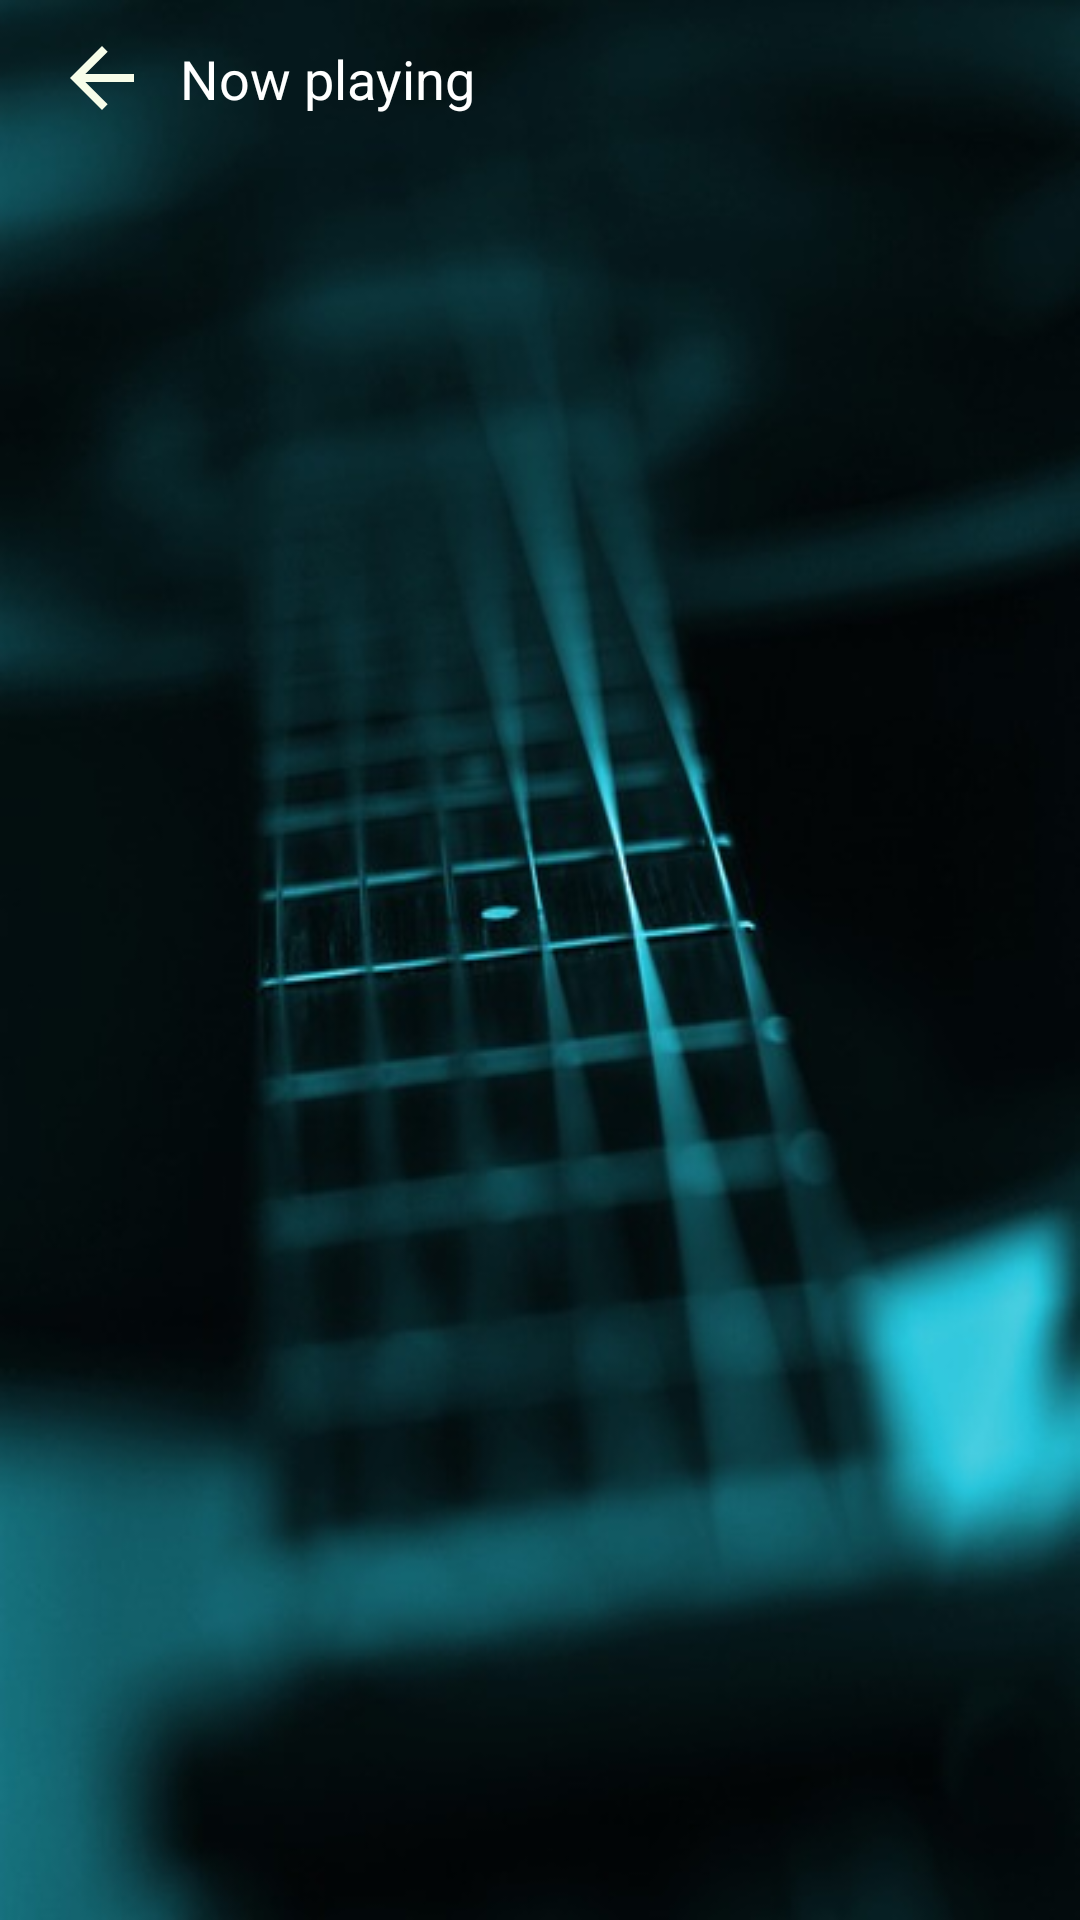

Icon click points for this 1080w x 1920h phone screenshot, format [x,y]:
back: [102,86]
